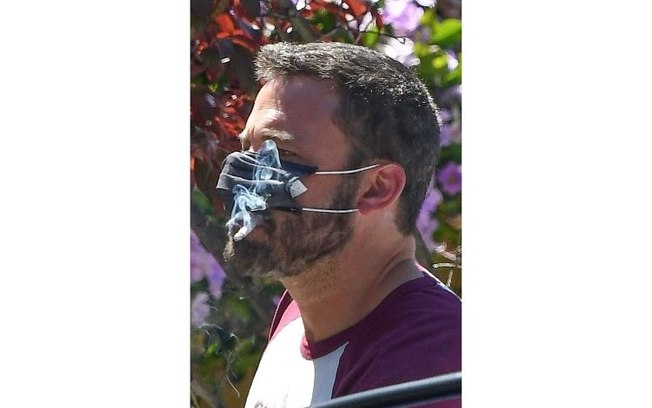mask_weared_incorrect: (204, 120, 409, 290)
